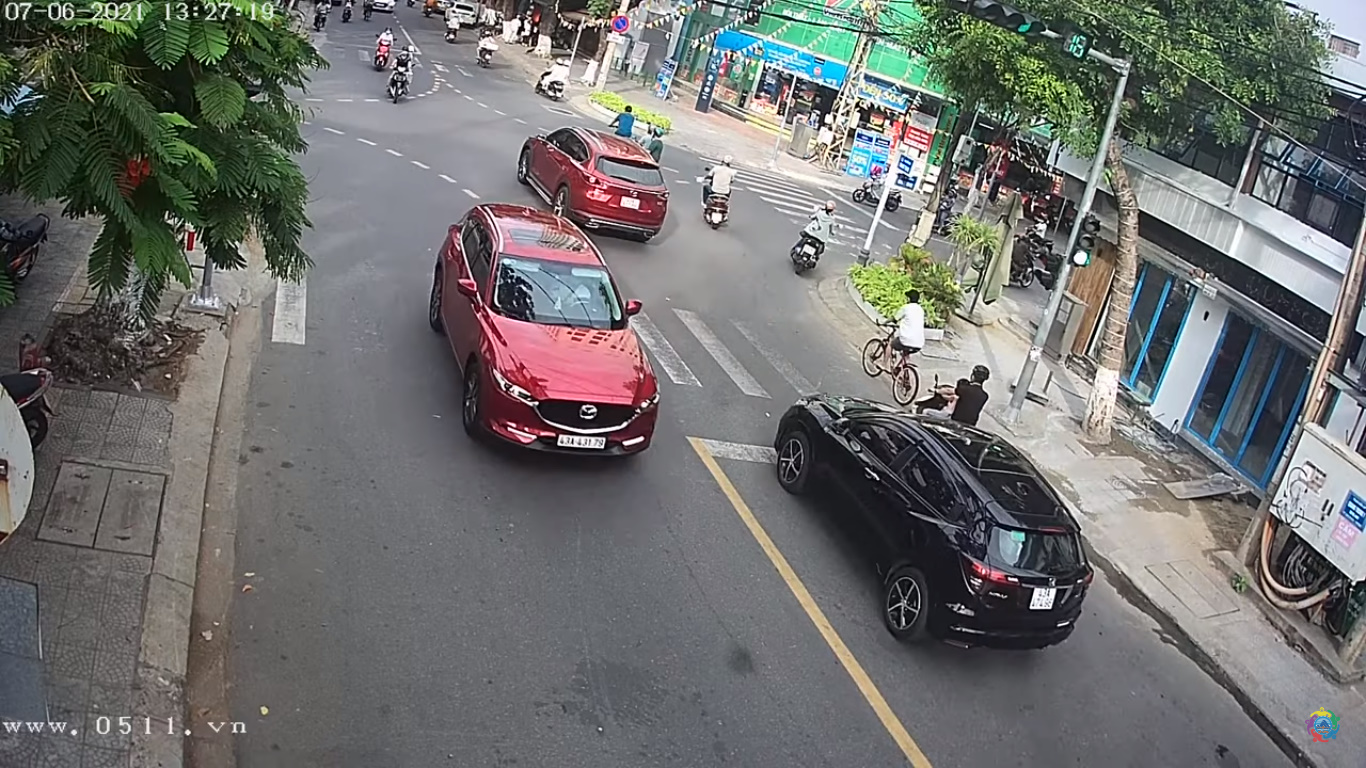car: (431, 207, 654, 460)
